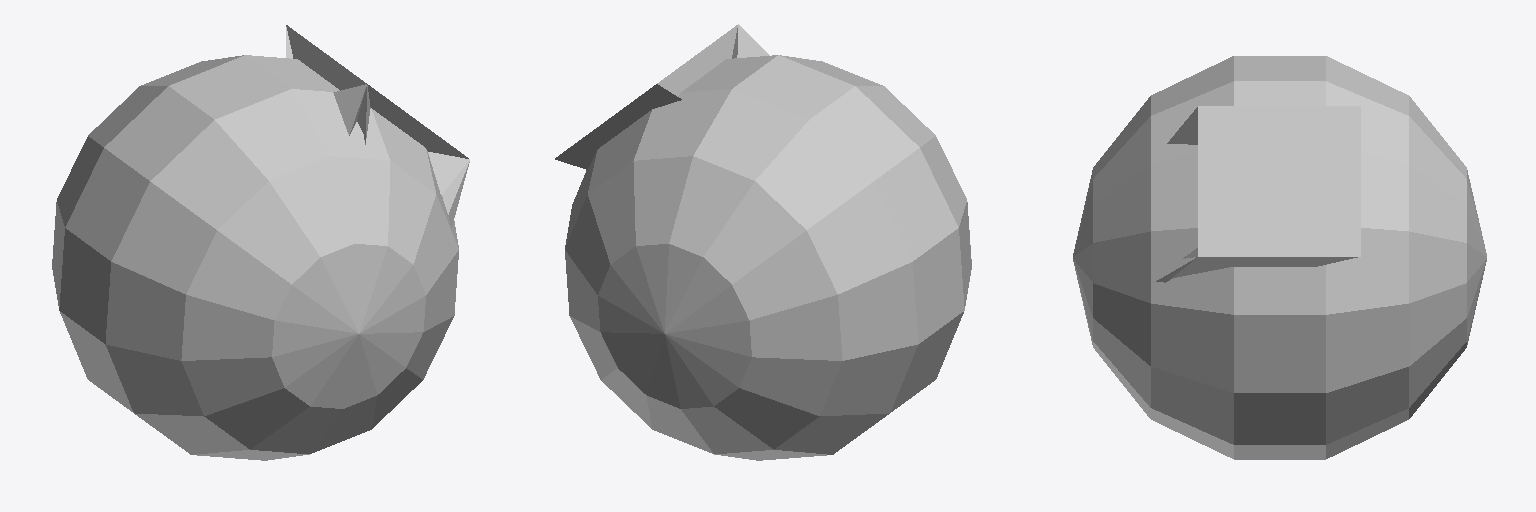
File: Plasma Grenade.obj
The picture shows the model from 3 angles: view 1: azimuth 30°, elevation 25°; view 2: azimuth 150°, elevation 25°; view 3: azimuth 270°, elevation 25°; orthographic projection.
Visible parts, largest first — view 1: default_default1, ground_point; view 2: default_default1, ground_point; view 3: default_default1, ground_point.
Boxes of the visible parts, box(x1,y1,x2,y2) form: default_default1: box(52, 55, 458, 460); ground_point: box(286, 25, 469, 428); default_default1: box(565, 55, 971, 460); ground_point: box(555, 24, 769, 169); default_default1: box(1073, 56, 1486, 459); ground_point: box(1095, 106, 1360, 444).
Size of the model in its own units: 4.93 by 5.01 by 5.1.